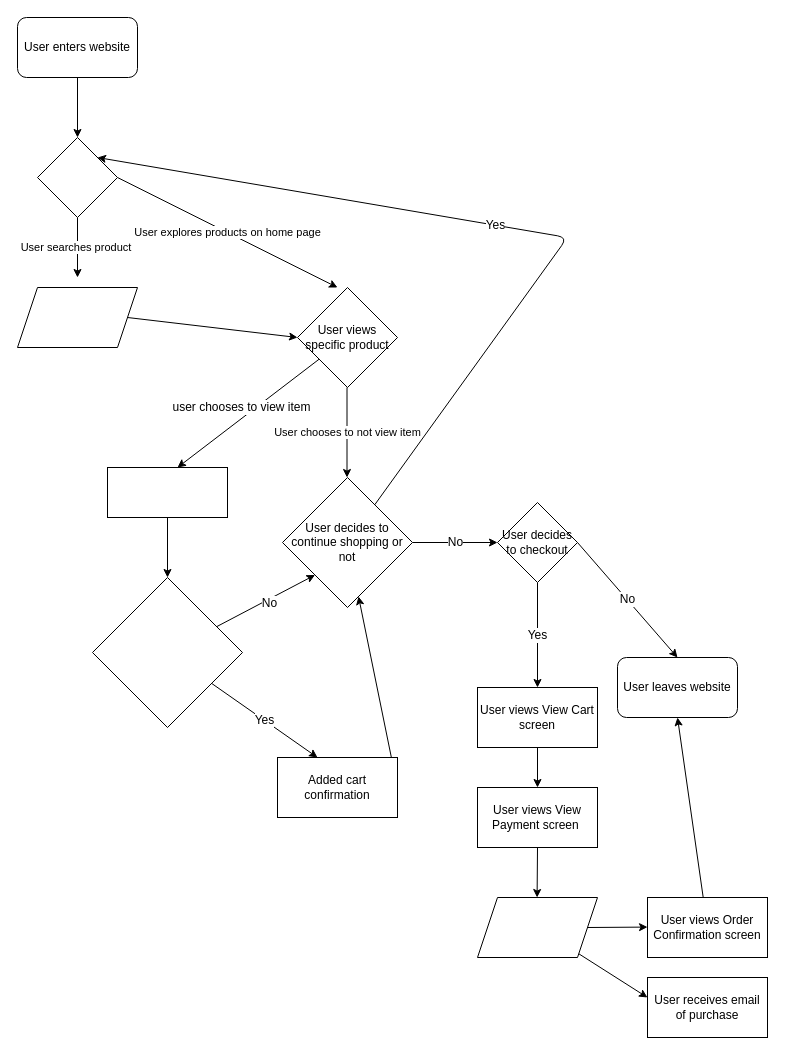
The diagram is 785 pixels wide and 1055 high, and some of its shapes have lost their labels. The shapes that lost their labels are listed below. From the top down, each one's centre as x and y in pixels, then its label:
At point (77, 177): "User views products".
At point (77, 317): "Input of specific product".
At point (167, 492): "Product webpage opens".
At point (167, 652): "User decides to put item in cart".
At point (537, 927): "User provides input of payment info".
